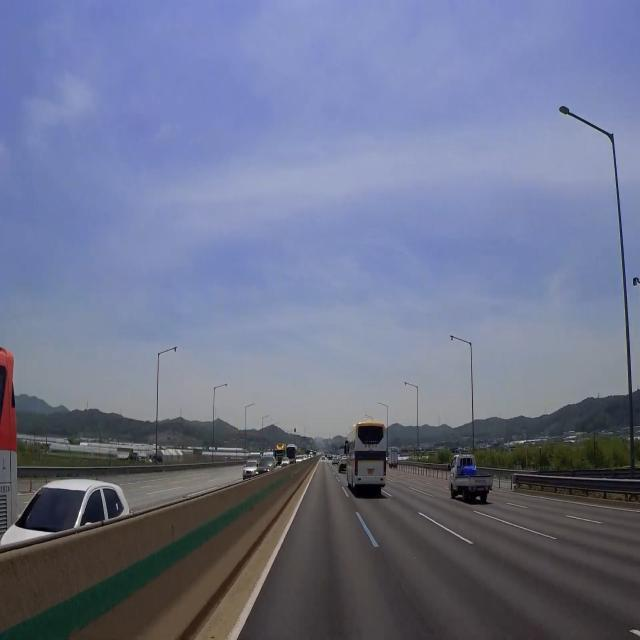car: (472, 483, 489, 499), (365, 464, 378, 477)
